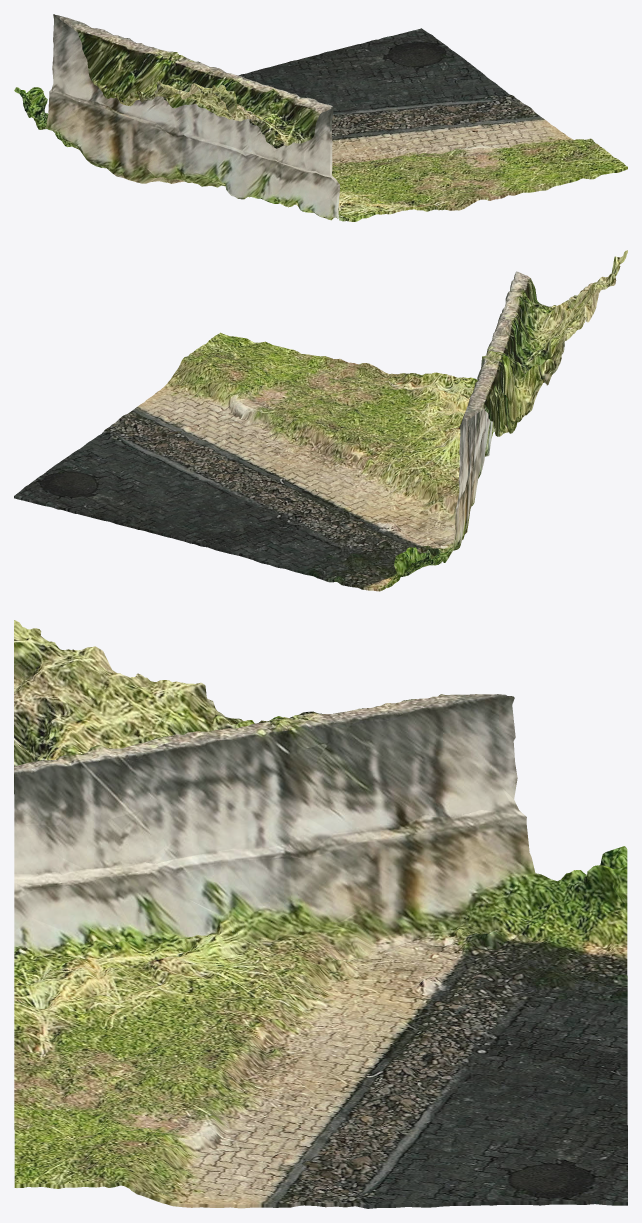
3 renders of one model, top to bottom at view 1: azimuth 30°, elevation 25°; view 2: azimuth 150°, elevation 25°; view 3: azimuth 270°, elevation 25°, orthographic. The views are drawn at different scales.
Visible parts, largest first — view 1: node_88; view 2: node_88; view 3: node_88.
Boxes of the visible parts, x1,y1,x2,y2 form: node_88: (14, 14, 627, 221); node_88: (14, 250, 627, 591); node_88: (14, 620, 627, 1208).
Size of the model in its own units: 6.13 by 2.91 by 5.36.
1 material, 1 textured.
